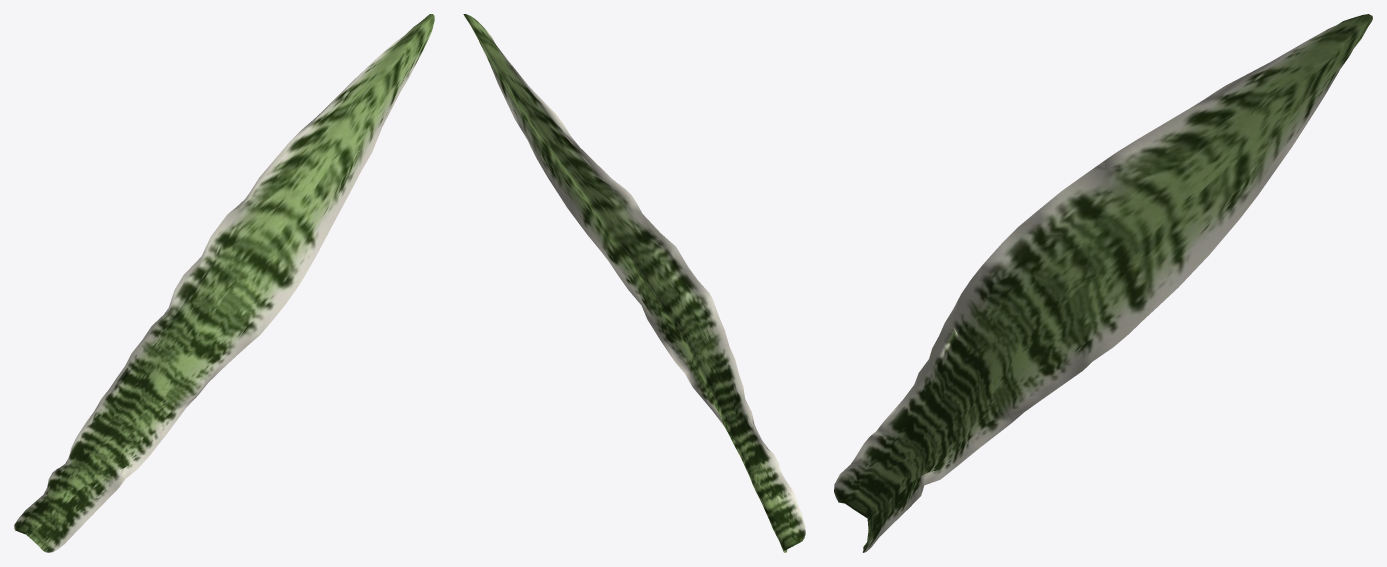
3 views of the same model, side by side, from view 1: azimuth 30°, elevation 25°; view 2: azimuth 150°, elevation 25°; view 3: azimuth 330°, elevation 25° (orthographic). The views are drawn at different scales.
Parts seen in each view (by area): view 1: sansevieriaplant.008; view 2: sansevieriaplant.008; view 3: sansevieriaplant.008.
Part boxes in pixels (x1,y1,x2,y2): sansevieriaplant.008: (14, 14, 434, 552); sansevieriaplant.008: (463, 14, 805, 552); sansevieriaplant.008: (834, 14, 1372, 552).
Size of the model in its own units: 1.03 by 1.17 by 0.1919.
Materials: 1 (1 with a texture image).
